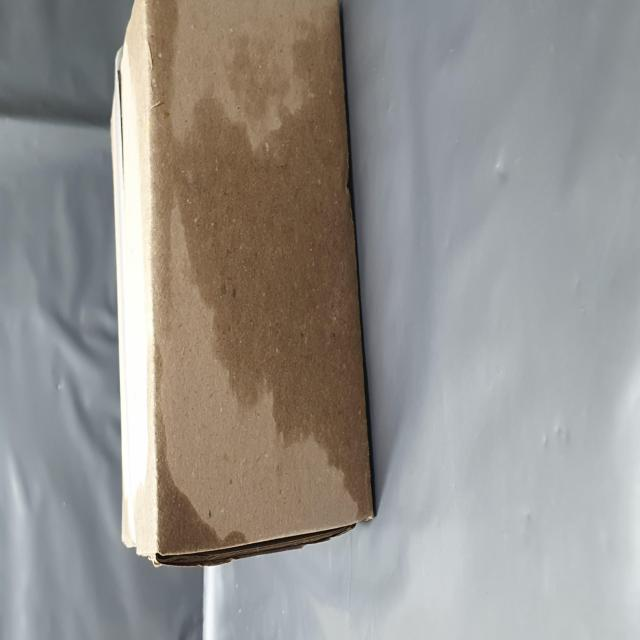wet: (40, 257, 360, 640)
